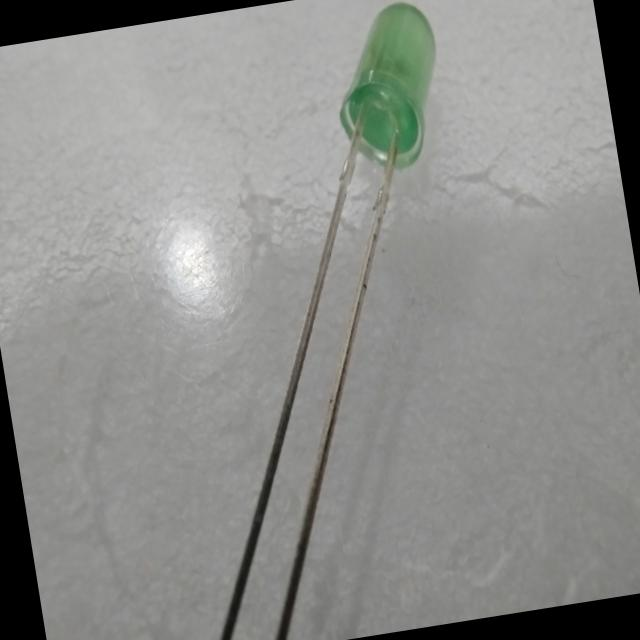green_led: (314, 0, 464, 192)
